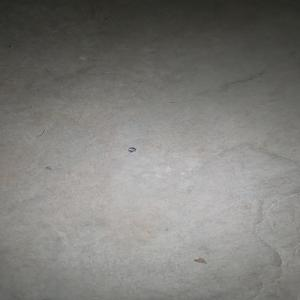Nut: (127, 147, 136, 153)
